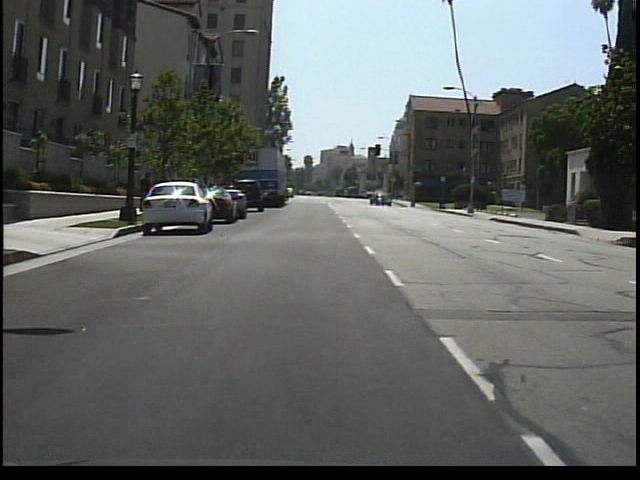person: (139, 167, 158, 216)
